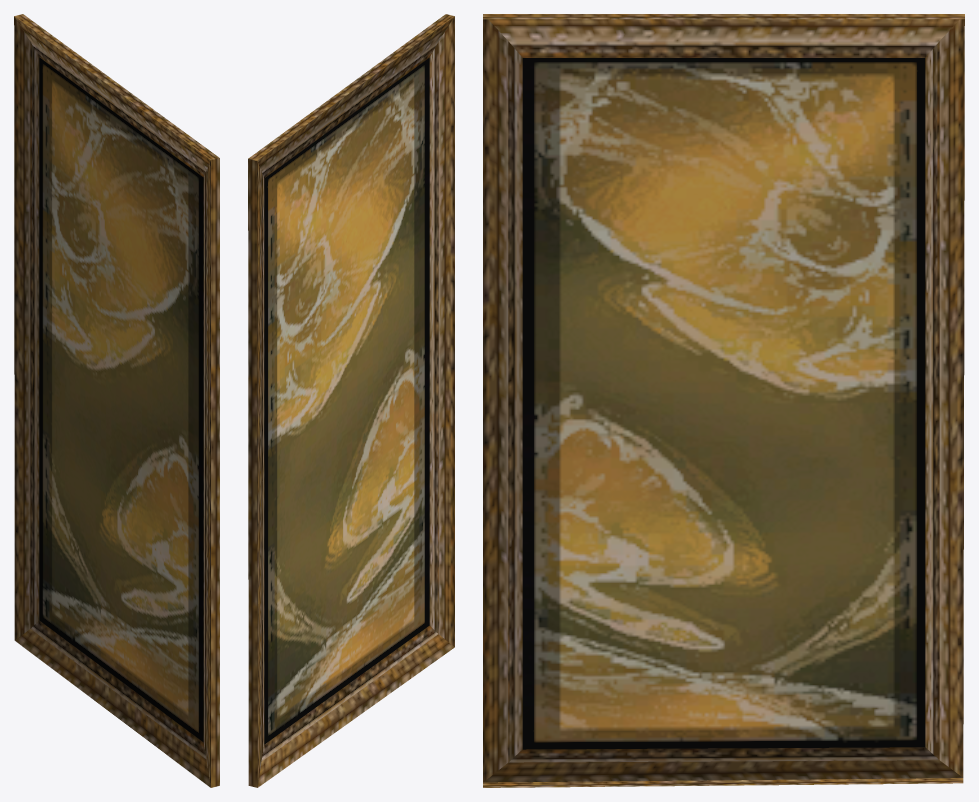
The model's file is frn_all_painting_golden_flower_s01.fbx.
The picture shows the model from 3 angles, left to right: view 1: azimuth 30°, elevation 25°; view 2: azimuth 150°, elevation 25°; view 3: azimuth 270°, elevation 25°; orthographic projection. The views are drawn at different scales.
Parts seen in each view (by area): view 1: mesh_node; view 2: mesh_node; view 3: mesh_node.
Part boxes in pixels (<box>): mesh_node: <box>14,14,219,787</box>; mesh_node: <box>248,14,454,787</box>; mesh_node: <box>483,14,964,787</box>.
Size of the model in its own units: 0.0364 by 2.44 by 1.38.
